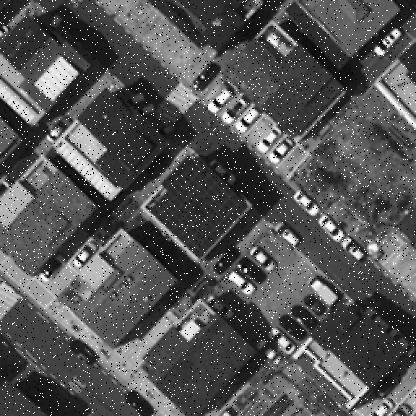solar-pv-panel: (151, 156, 247, 258)
